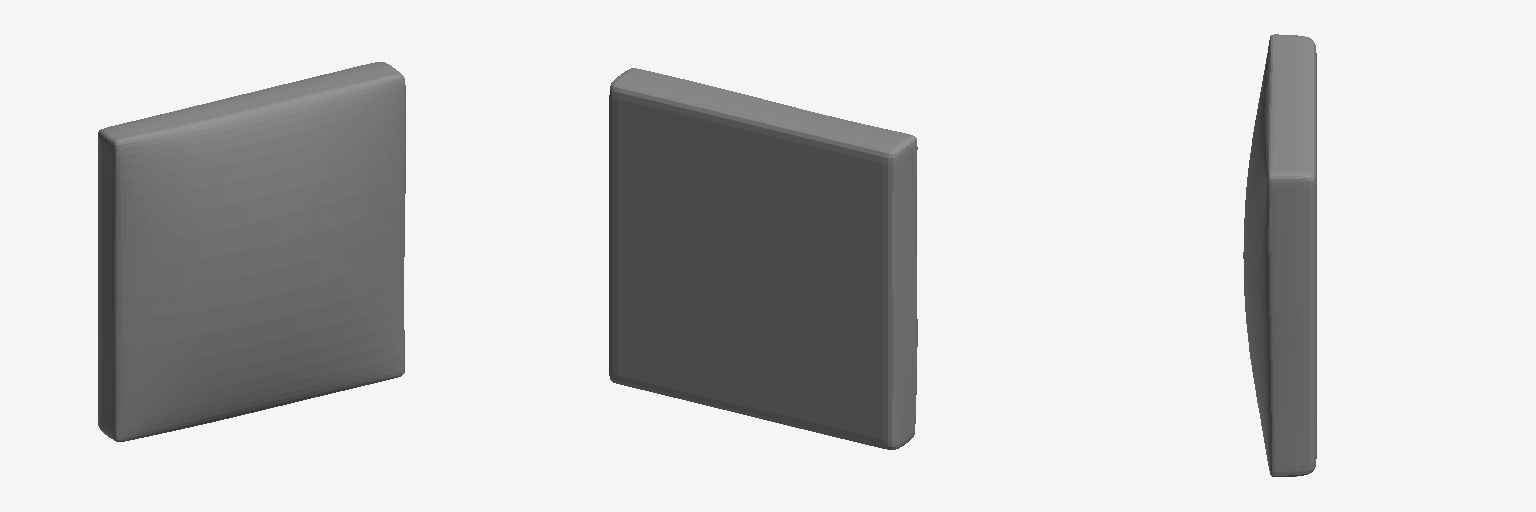
The picture shows the model from 3 angles: view 1: azimuth 30°, elevation 25°; view 2: azimuth 150°, elevation 25°; view 3: azimuth 270°, elevation 25°; orthographic projection.
Parts seen in each view (by area): view 1: 10484_Baseball_Base_v1; view 2: 10484_Baseball_Base_v1; view 3: 10484_Baseball_Base_v1.
Part boxes in pixels (left/top/right/bottom): 10484_Baseball_Base_v1: left=98, top=62, right=405, bottom=441; 10484_Baseball_Base_v1: left=609, top=68, right=917, bottom=449; 10484_Baseball_Base_v1: left=1243, top=34, right=1316, bottom=476.
Size of the model in its own units: 38.23 by 38.28 by 8.31.